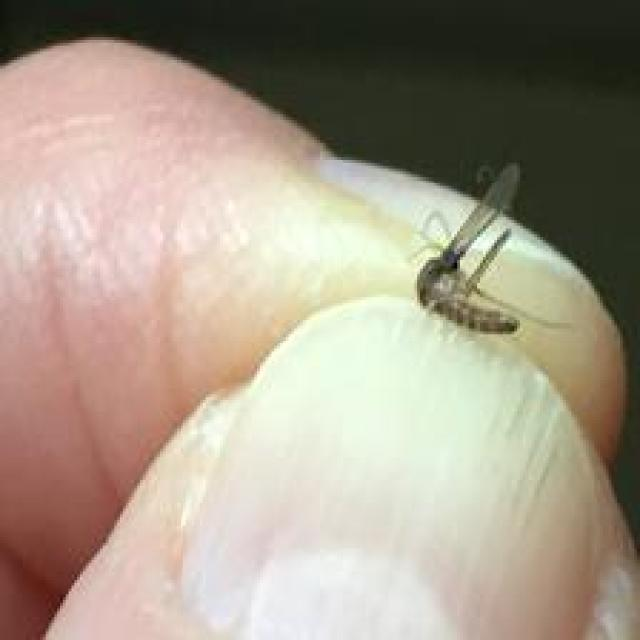Culex: (407, 160, 573, 337)
